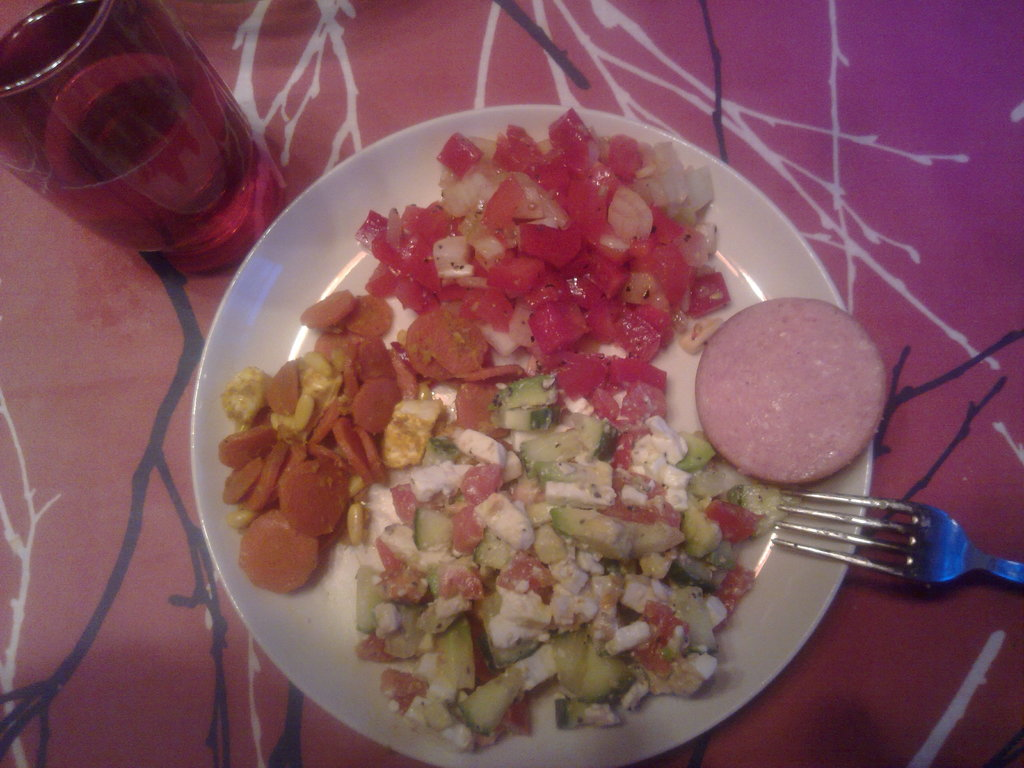salad: (209, 107, 758, 763)
